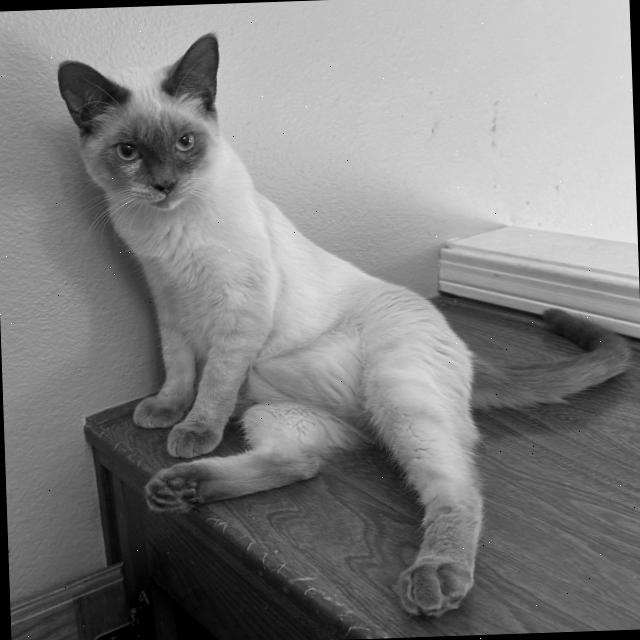siamese_cat: (54, 28, 242, 227)
